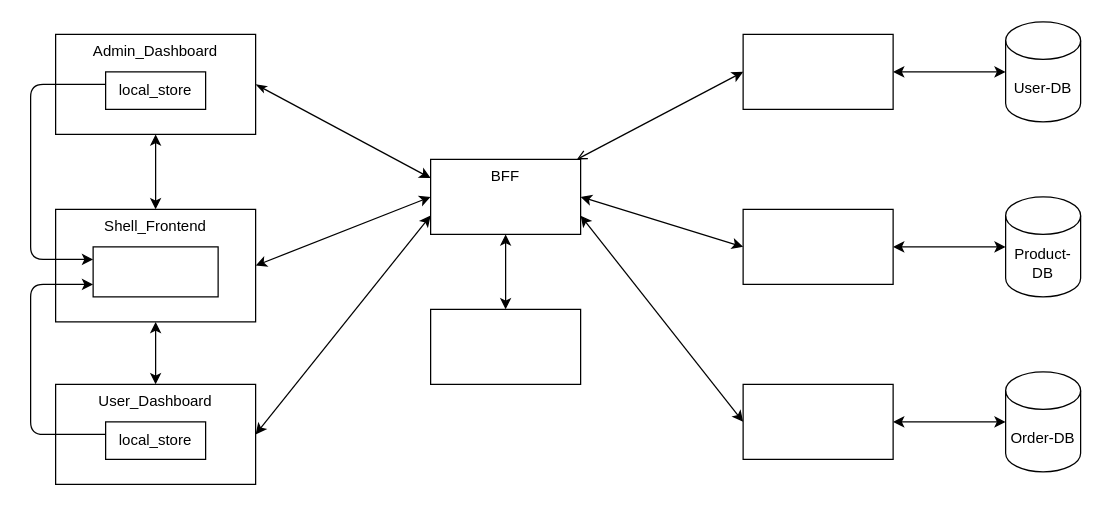
Some shapes in this 1103 by 506 pixel diagram are drawn without their labels. The centre of each missing label's shape, as x and y in pixels:
"AWS Cognito" belongs at (x=505, y=346).
"global_store" belongs at (x=155, y=271).
"Order Service" belongs at (x=817, y=421).
"Product Service" belongs at (x=817, y=246).
"User Service" belongs at (x=817, y=71).
